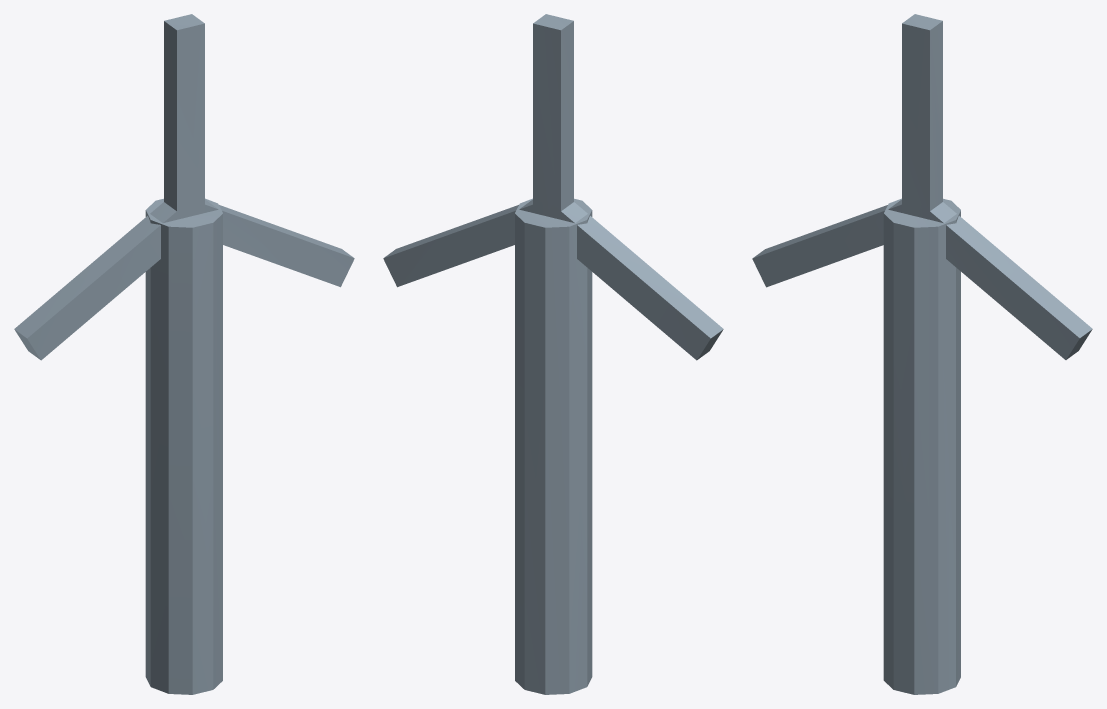
Rendered from wind_turbine-05.glb.
3 views of the same model, side by side, from view 1: azimuth 30°, elevation 25°; view 2: azimuth 150°, elevation 25°; view 3: azimuth 330°, elevation 25° (orthographic).
Visible parts, largest first — view 1: world; view 2: world; view 3: world.
Part boxes in pixels (box(x1,y1,x2,y2)): world: box(14, 14, 354, 694); world: box(383, 14, 723, 694); world: box(752, 14, 1092, 694).
Bounding box in the file's own units: 1.17 × 2.23 × 0.2283.
